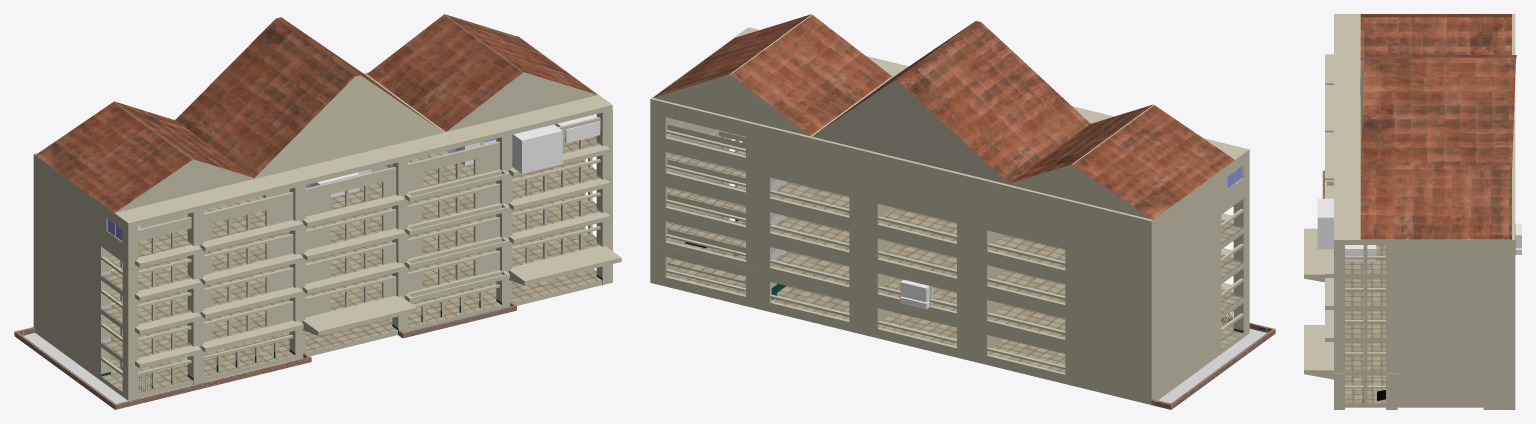
Rendered from shsbuildingggggg.fbx.
3 renders of one model, left to right at view 1: azimuth 30°, elevation 25°; view 2: azimuth 150°, elevation 25°; view 3: azimuth 270°, elevation 25°, orthographic. The views are drawn at different scales.
Parts seen in each view (by area): view 1: Building, CTRL_Hole.009, CTRL_Hole.010; view 2: Building; view 3: Building, CTRL_Hole.009, CTRL_Hole.010.
Boxes of the visible parts, bbox=[...] form: Building: bbox=[14, 14, 621, 409]; CTRL_Hole.009: bbox=[512, 124, 562, 173]; CTRL_Hole.010: bbox=[554, 115, 600, 143]; Building: bbox=[650, 14, 1275, 409]; Building: bbox=[1304, 14, 1516, 409]; CTRL_Hole.009: bbox=[1317, 198, 1333, 249]; CTRL_Hole.010: bbox=[1345, 245, 1376, 261].
Bounding box in the file's own units: 4697 × 2259 × 1840.
